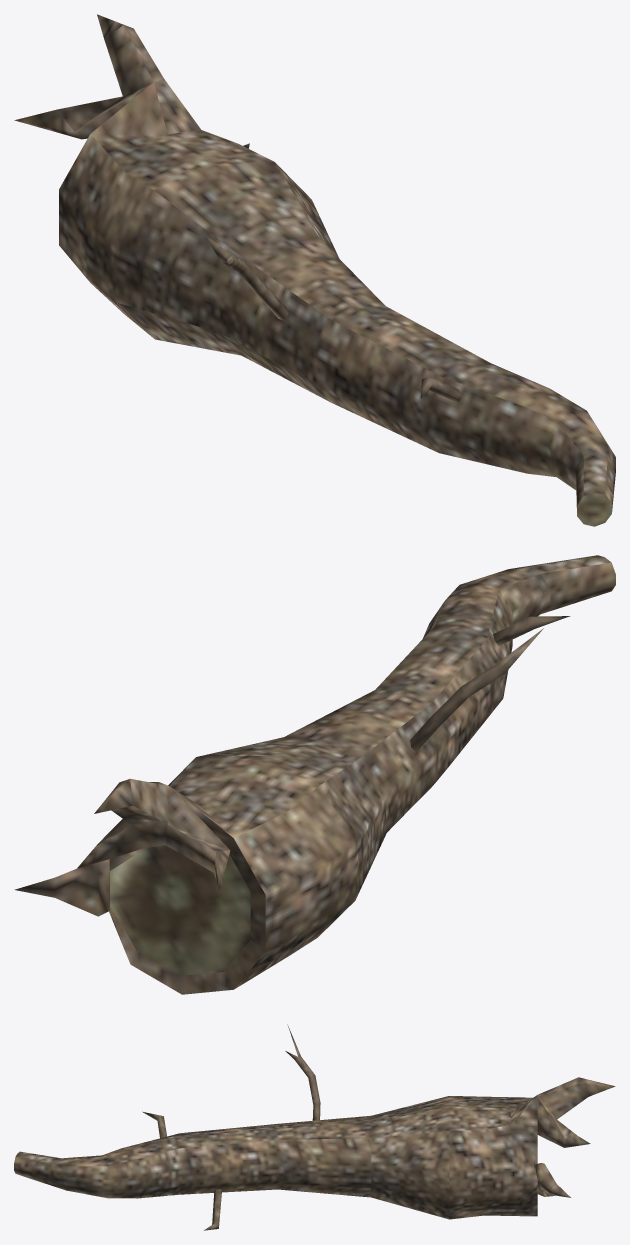
File: eyecandy_tree_dead_e.glb
3 views of the same model, one above another, from view 1: azimuth 30°, elevation 25°; view 2: azimuth 150°, elevation 25°; view 3: azimuth 270°, elevation 25° (orthographic). The views are drawn at different scales.
Parts seen in each view (by area): view 1: eyecandy_tree_dead_e; view 2: eyecandy_tree_dead_e; view 3: eyecandy_tree_dead_e.
Part boxes in pixels (<box>): eyecandy_tree_dead_e: <box>14,14,615,526</box>; eyecandy_tree_dead_e: <box>14,555,615,994</box>; eyecandy_tree_dead_e: <box>14,1024,615,1230</box>.
Bounding box in the file's own units: 3.29 × 2.71 × 10.1.
Materials: 1 (1 with a texture image).
